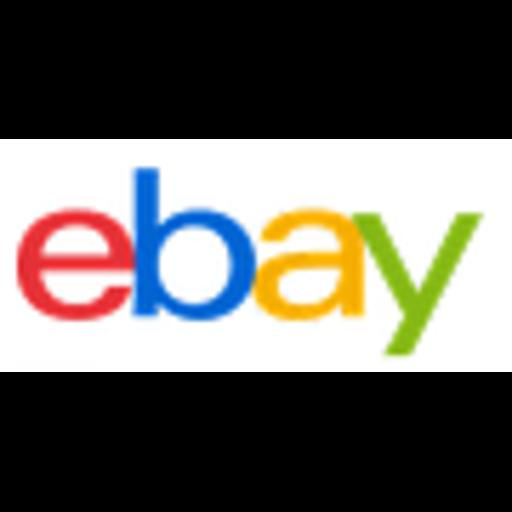eBay: (0, 139, 512, 372)
